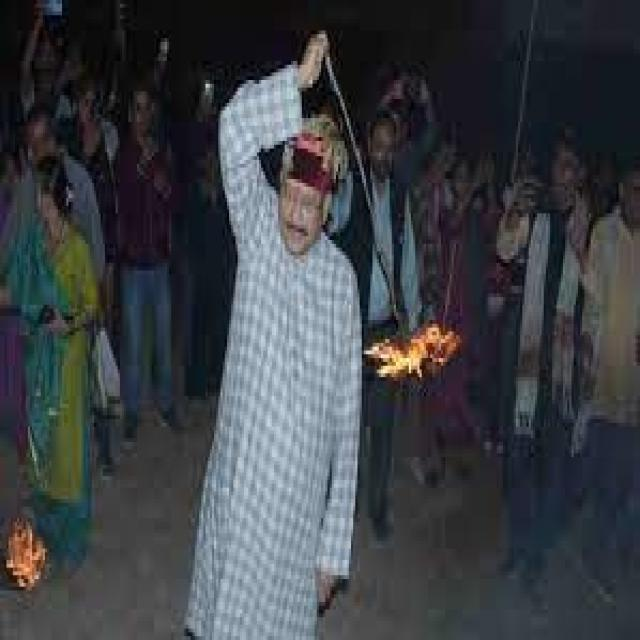fire: (365, 323, 462, 383), (7, 516, 45, 589)
